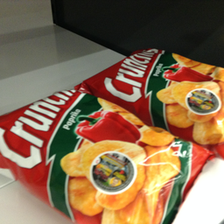chips: (1, 89, 213, 224), (78, 47, 224, 157)
